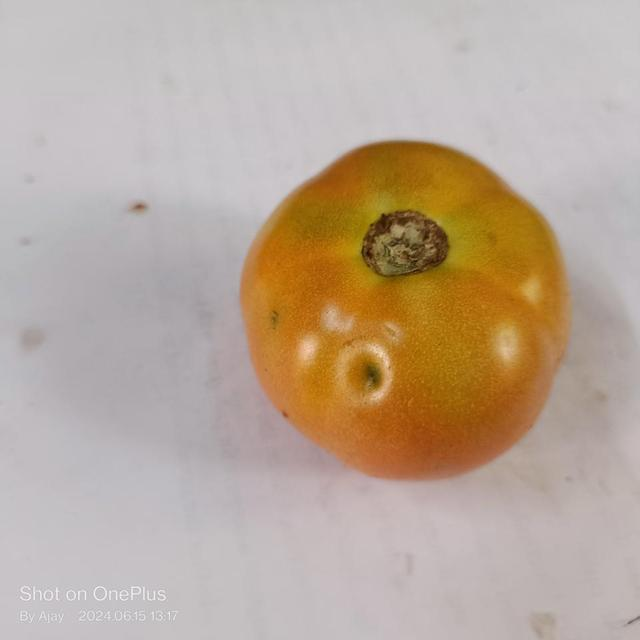Bacterial Spot Fruit: (236, 240, 260, 262)
